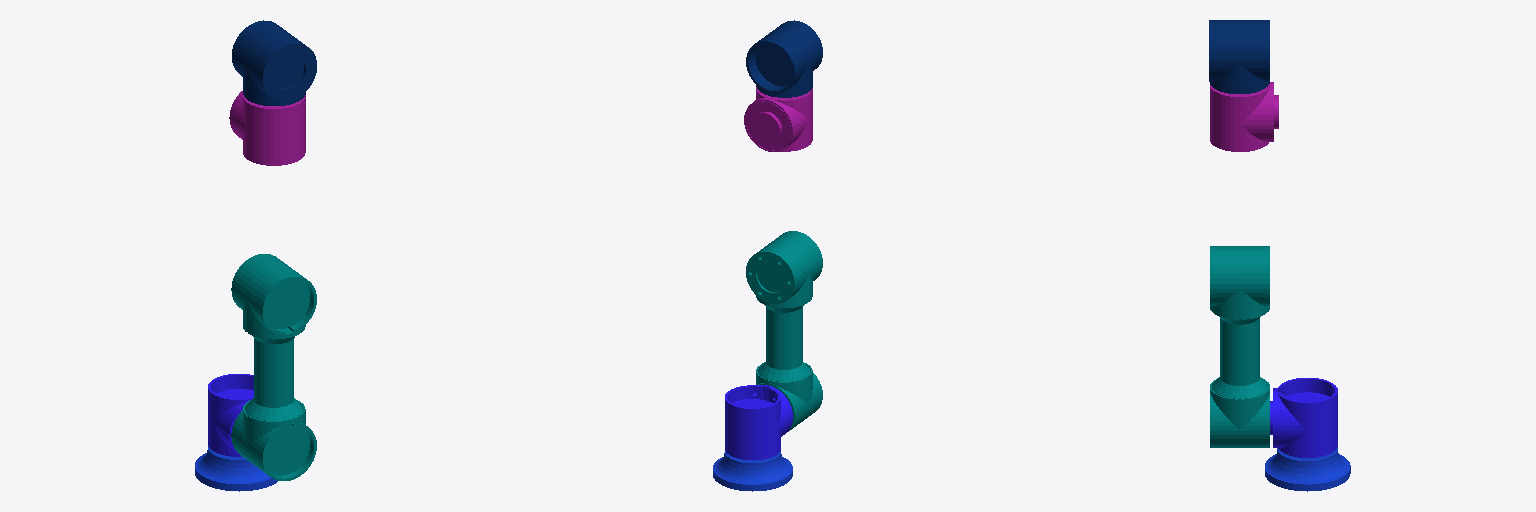
robot.urdf — mockway_description:
<?xml version="1.0"?>
<robot name="mockway_description">
<!-- 自动生成(请勿手改): tools/gen_macos_collision_urdf.py
     仅供 macOS(RoboStack) 使用 box 碰撞，规避 FCL 网格 BVH 在 Eigen5 下的崩溃。
     Linux/WSL 仍使用 mockway_description.urdf 的网格碰撞。 -->


  <link name="base_link">
    <inertial>
      <mass value="0.097"/>
      <origin xyz="-0.000 -0.000 0.014" rpy="0 0 0"/>
      <inertia ixx="0.000049" iyy="0.000049" izz="0.000080" ixy="-0.000000" ixz="0.000000" iyz="0.000000"/>
    </inertial>
    <visual>
      <origin xyz="0 0 0" rpy="0 0 0"/>
      <geometry>
        <mesh filename="package://mockway_description/meshes/base_link.stl"/>
      </geometry>
      <material name="">
        <color rgba="0.127 0.301 0.847 1.000"/>
      </material>
    </visual>
    <collision>
      <origin xyz="0 0 0.0169" rpy="0 0 0"/>
      <geometry>
        <box size="0.09 0.09 0.0338"/>
      </geometry>
    </collision>
  </link>

  <joint name="joint1" type="revolute">
    <parent link="base_link"/>
    <child link="link1"/>
    <origin xyz="0.000 0.000 0.064" rpy="0.000 -0.000 0.000"/>
    <axis xyz="0 0 1"/>
    <limit lower="-6.280" upper="6.280" effort="9.000" velocity="3.140"/>
  </joint>

  <link name="link1">
    <inertial>
      <mass value="0.378"/>
      <origin xyz="0.000 -0.003 -0.005" rpy="0 0 0"/>
      <inertia ixx="0.000195" iyy="0.000176" izz="0.000204" ixy="-0.000000" ixz="-0.000000" iyz="0.000005"/>
    </inertial>
    <visual>
      <origin xyz="0 0 0" rpy="0 0 0"/>
      <geometry>
        <mesh filename="package://mockway_description/meshes/link1.stl"/>
      </geometry>
      <material name="">
        <color rgba="0.231 0.162 1.000 1.000"/>
      </material>
    </visual>
    <collision>
      <origin xyz="0 -0.0046 0.0012" rpy="0 0 0"/>
      <geometry>
        <box size="0.0634 0.0726 0.0658"/>
      </geometry>
    </collision>
  </link>

  <joint name="joint2" type="revolute">
    <parent link="link1"/>
    <child link="link2"/>
    <origin xyz="0.000 0.000 0.000" rpy="1.571 -0.000 0.000"/>
    <axis xyz="0 0 1"/>
    <limit lower="-6.280" upper="6.280" effort="9.000" velocity="3.140"/>
  </joint>

  <link name="link2">
    <inertial>
      <mass value="0.568"/>
      <origin xyz="0.000 0.035 0.069" rpy="0 0 0"/>
      <inertia ixx="0.002661" iyy="0.000305" izz="0.002654" ixy="-0.000000" ixz="-0.000000" iyz="-0.000043"/>
    </inertial>
    <visual>
      <origin xyz="0 0 0" rpy="0 0 0"/>
      <geometry>
        <mesh filename="package://mockway_description/meshes/link2.stl"/>
      </geometry>
      <material name="">
        <color rgba="0.031 0.558 0.558 1.000"/>
      </material>
    </visual>
    <collision>
      <origin xyz="0 0.0952 0.0718" rpy="0 0 0"/>
      <geometry>
        <box size="0.0634 0.2538 0.0658"/>
      </geometry>
    </collision>
  </link>

  <joint name="joint3" type="revolute">
    <parent link="link2"/>
    <child link="link3"/>
    <origin xyz="0.000 0.190 0.000" rpy="0.000 -0.000 0.000"/>
    <axis xyz="0 0 1"/>
    <limit lower="-3.140" upper="3.140" effort="9.000" velocity="3.140"/>
  </joint>

  <link name="link3">
    <inertial>
      <mass value="0.488"/>
      <origin xyz="-0.000 0.131 0.006" rpy="0 0 0"/>
      <inertia ixx="0.001818" iyy="0.000257" izz="0.001814" ixy="0.000000" ixz="-0.000000" iyz="0.000079"/>
    </inertial>
    <visual>
      <origin xyz="0 0 0" rpy="0 0 0"/>
      <geometry>
        <mesh filename="package://mockway_description/meshes/link3.stl"/>
      </geometry>
      <material name="">
        <color rgba="1.000 0.212 0.080 1.000"/>
      </material>
    </visual>
    <collision>
      <origin xyz="0 0.0817 0.0034" rpy="0 0 0"/>
      <geometry>
        <box size="0.0634 0.2268 0.075"/>
      </geometry>
    </collision>
  </link>

  <joint name="joint4" type="revolute">
    <parent link="link3"/>
    <child link="link4"/>
    <origin xyz="0.000 0.163 0.000" rpy="0.000 -0.000 0.000"/>
    <axis xyz="0 0 1"/>
    <limit lower="-6.280" upper="6.280" effort="3.000" velocity="3.140"/>
  </joint>

  <link name="link4">
    <inertial>
      <mass value="0.378"/>
      <origin xyz="0.000 0.005 0.068" rpy="0 0 0"/>
      <inertia ixx="0.000195" iyy="0.000204" izz="0.000176" ixy="0.000000" ixz="-0.000000" iyz="-0.000005"/>
    </inertial>
    <visual>
      <origin xyz="0 0 0" rpy="0 0 0"/>
      <geometry>
        <mesh filename="package://mockway_description/meshes/link4.stl"/>
      </geometry>
      <material name="">
        <color rgba="0.701 0.162 0.672 1.000"/>
      </material>
    </visual>
    <collision>
      <origin xyz="0 -0.0012 0.066" rpy="0 0 0"/>
      <geometry>
        <box size="0.0634 0.0658 0.0726"/>
      </geometry>
    </collision>
  </link>

  <joint name="joint5" type="revolute">
    <parent link="link4"/>
    <child link="link5"/>
    <origin xyz="0.000 0.000 0.071" rpy="-1.571 0.000 0.000"/>
    <axis xyz="0 0 1"/>
    <limit lower="-6.280" upper="6.280" effort="3.000" velocity="3.140"/>
  </joint>

  <link name="link5">
    <inertial>
      <mass value="0.378"/>
      <origin xyz="-0.000 -0.005 0.068" rpy="0 0 0"/>
      <inertia ixx="0.000195" iyy="0.000204" izz="0.000176" ixy="0.000000" ixz="0.000000" iyz="0.000005"/>
    </inertial>
    <visual>
      <origin xyz="0 0 0" rpy="0 0 0"/>
      <geometry>
        <mesh filename="package://mockway_description/meshes/link5.stl"/>
      </geometry>
      <material name="">
        <color rgba="0.061 0.223 0.456 1.000"/>
      </material>
    </visual>
    <collision>
      <origin xyz="0 0.0012 0.066" rpy="0 0 0"/>
      <geometry>
        <box size="0.0634 0.0658 0.0726"/>
      </geometry>
    </collision>
  </link>

  <joint name="joint6" type="revolute">
    <parent link="link5"/>
    <child link="link6"/>
    <origin xyz="0.000 -0.039 0.071" rpy="1.571 -0.000 0.000"/>
    <axis xyz="0 0 1"/>
    <limit lower="-6.280" upper="6.280" effort="3.000" velocity="3.140"/>
  </joint>

  <link name="link6">
    <inertial>
      <mass value="0.016"/>
      <origin xyz="0.000 -0.000 -0.004" rpy="0 0 0"/>
      <inertia ixx="0.000003" iyy="0.000003" izz="0.000006" ixy="0.000000" ixz="0.000000" iyz="0.000000"/>
    </inertial>
    <visual>
      <origin xyz="0 0 0" rpy="0 0 0"/>
      <geometry>
        <mesh filename="package://mockway_description/meshes/link6.stl"/>
      </geometry>
      <material name="">
        <color rgba="0.527 0.527 0.527 1.000"/>
      </material>
    </visual>
    <collision>
      <origin xyz="0 0 -0.00525" rpy="0 0 0"/>
      <geometry>
        <box size="0.0584 0.0584 0.0095"/>
      </geometry>
    </collision>
  </link>

</robot>

--- Facts derived from the render (not from the file) ---
Views: 3 orthographic renders of the robot side by side, from view 1: azimuth 30°, elevation 25°; view 2: azimuth 150°, elevation 25°; view 3: azimuth 270°, elevation 25°.
Model mockway_description with 7 links and 6 joints (6 revolute), rooted at base_link, posed every joint at zero.
Visible links, largest first — view 1: link2, link5, link4, link1, base_link; view 2: link2, link5, link1, link4, base_link; view 3: link2, link1, link5, link4, base_link.
Boxes of the visible links, x1,y1,x2,y2 form: link2: (231,254,316,480); link5: (232,20,316,105); link4: (229,91,305,165); link1: (208,374,253,456); base_link: (195,446,277,491); link2: (746,231,822,431); link5: (746,20,822,97); link1: (725,385,792,459); link4: (744,87,812,151); base_link: (713,451,792,491); link2: (1210,246,1269,447); link1: (1270,378,1337,457); link5: (1209,20,1269,93); link4: (1210,82,1278,151); base_link: (1265,447,1350,491).
Size in the robot's own frame: 0.09 by 0.1478 by 0.5193 metres.
Meshes: 7 distinct files referenced, 5 mesh visuals loaded (5 binary STL); not drawn: 2 (reference not matched to a file when rendering).
